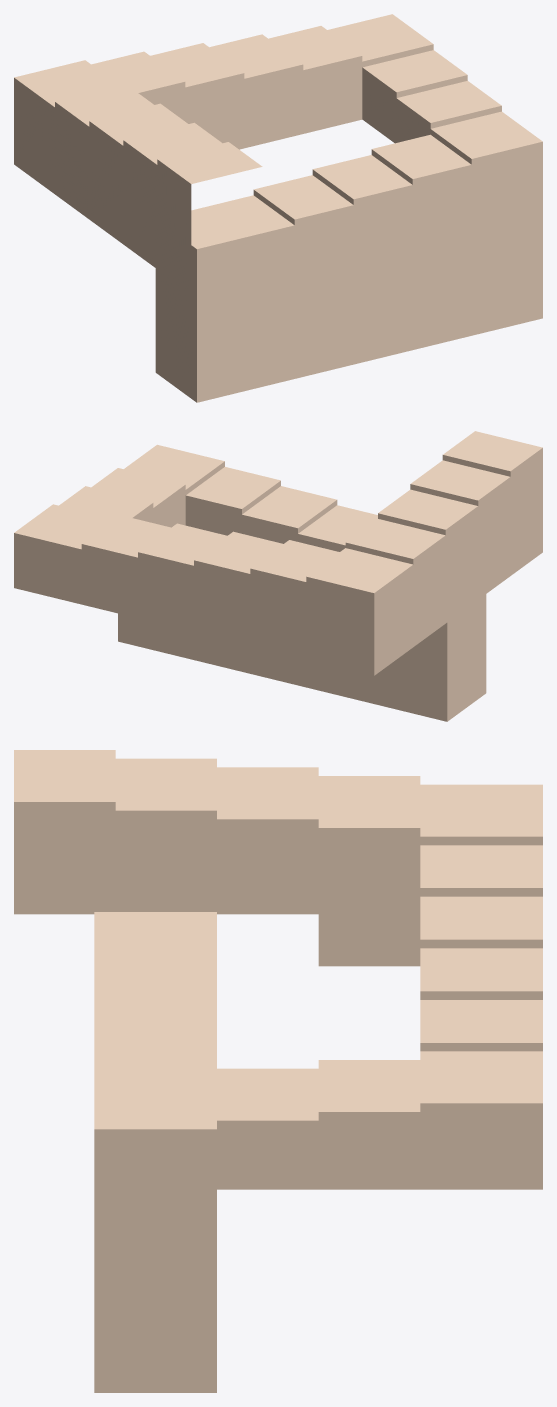
Rendered from Abstract_Beige_Penrose_Staircase_01.fbx.
3 views of the same model, one above another, from view 1: azimuth 30°, elevation 25°; view 2: azimuth 150°, elevation 25°; view 3: azimuth 270°, elevation 25° (orthographic). The views are drawn at different scales.
Visible parts, largest first — view 1: Abstract_Beige_Penrose_Staircase_01; view 2: Abstract_Beige_Penrose_Staircase_01; view 3: Abstract_Beige_Penrose_Staircase_01.
Boxes of the visible parts, left/top/right/bottom form: Abstract_Beige_Penrose_Staircase_01: left=14, top=14, right=542, bottom=402; Abstract_Beige_Penrose_Staircase_01: left=14, top=431, right=542, bottom=721; Abstract_Beige_Penrose_Staircase_01: left=14, top=750, right=542, bottom=1392.
Bounding box in the file's own units: 523 × 325 × 424.
